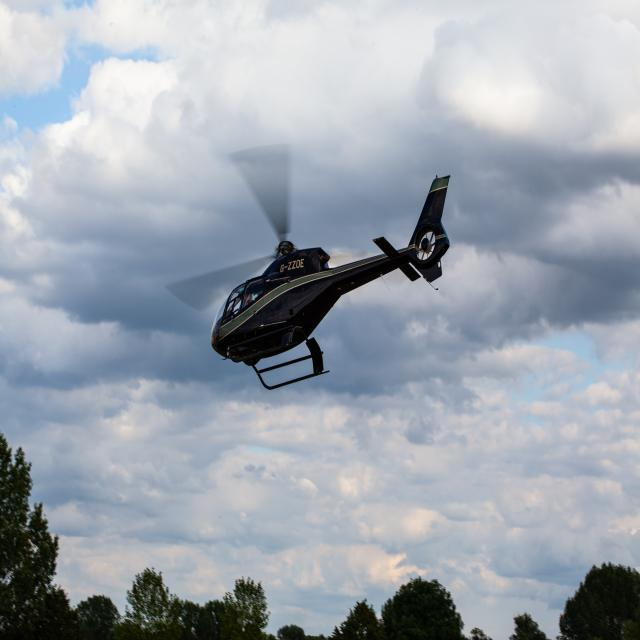helicopter: (173, 146, 459, 392)
